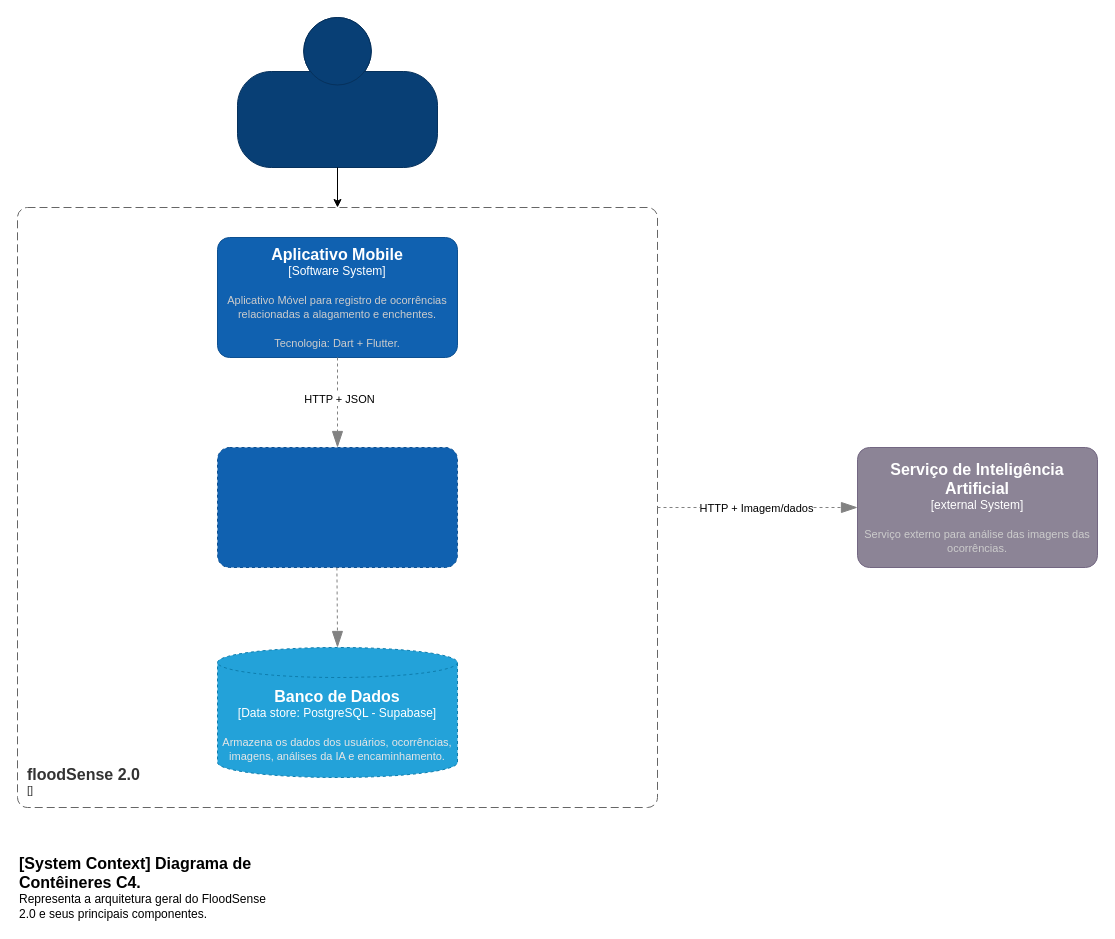
Image size: 1115x939. Some labels were removed from this diagram. Here are the shapes that lost their labels. From the top down, the centre of each, then its label:
the point at 337,92: Usuário [Person] O usuário que pode acessar o aplicativo.
the point at 337,507: Backend / API [Software System]
